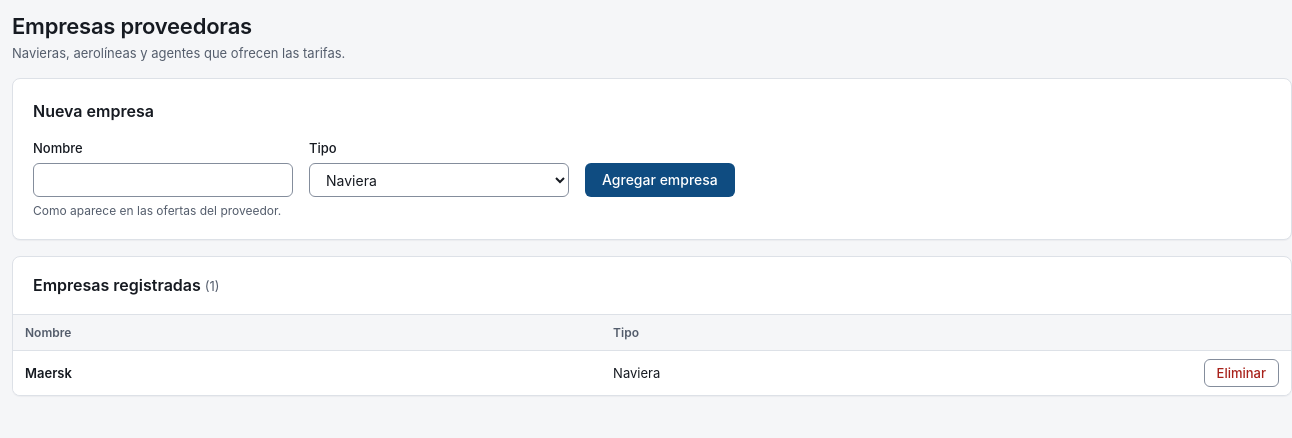
Scenario: EmpresasPage — UX › pide confirmación y avisa que se eliminan también los ítems; Cancelar no elimina
Expected: the text "Maersk" is shown, x1=25 y1=365 x2=72 y2=381
Click the button "Eliminar" at x=1241, y=373, box x1=1204 y1=359 x2=1279 y2=387
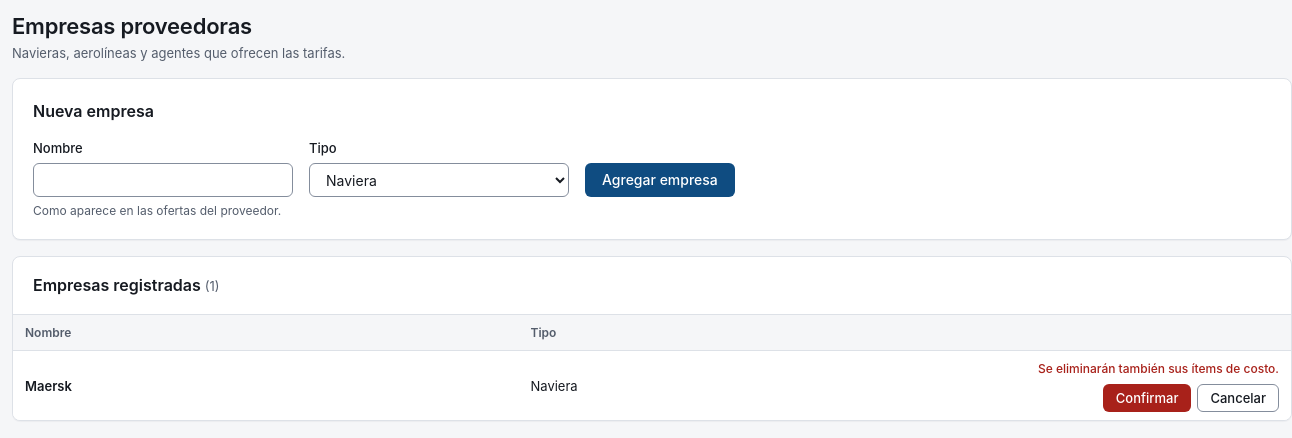
Result: the text "Se eliminarán también sus ítems de costo." is shown at x1=1038 y1=360 x2=1279 y2=378
Click the button "Cancelar" at x=1238, y=398, box x1=1197 y1=384 x2=1279 y2=412
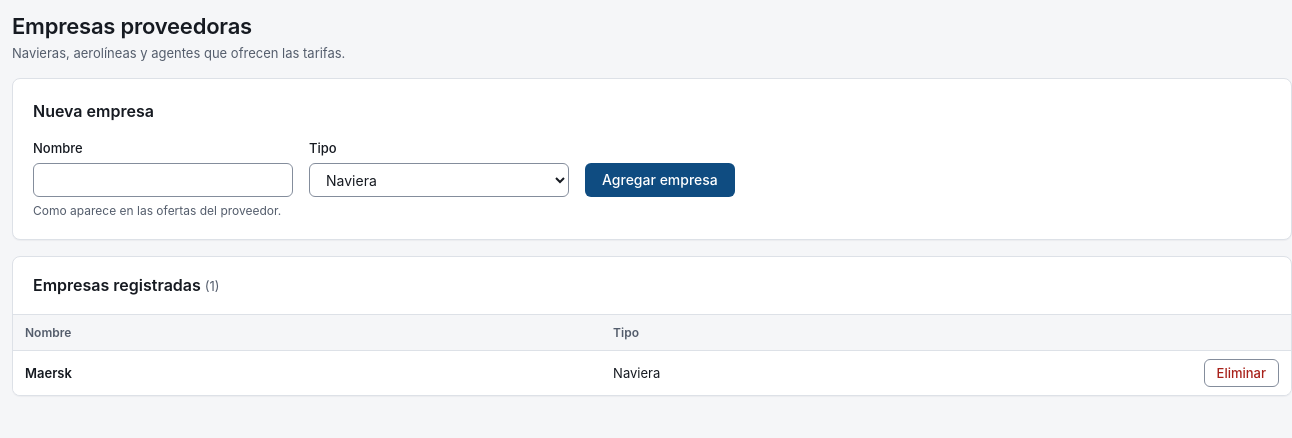
Result: the button "Eliminar" is shown at x1=1204 y1=359 x2=1279 y2=387
